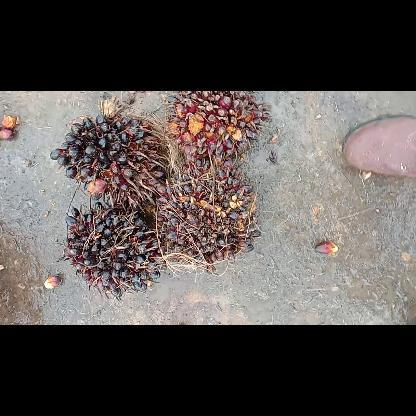TBS abnormal: (156, 154, 263, 272), (60, 200, 166, 304)
TBS masak: (47, 95, 175, 212), (162, 91, 276, 179)
